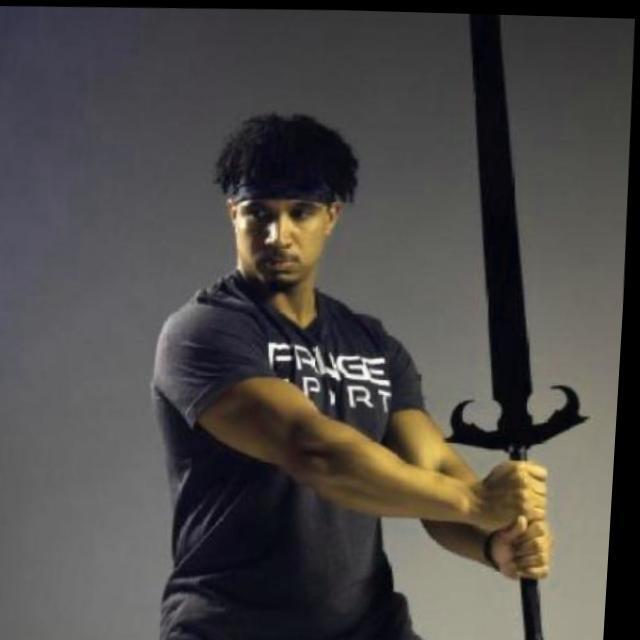weapon: (424, 11, 615, 640)
